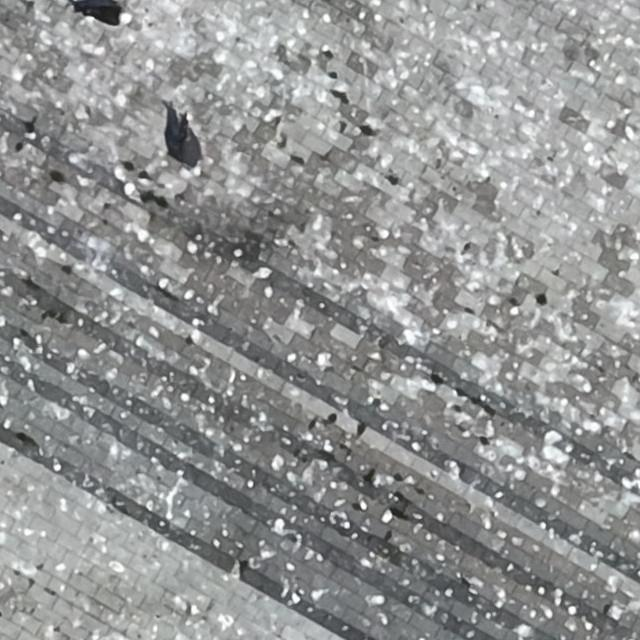umineko: (176, 120, 206, 180), (82, 4, 132, 26)
